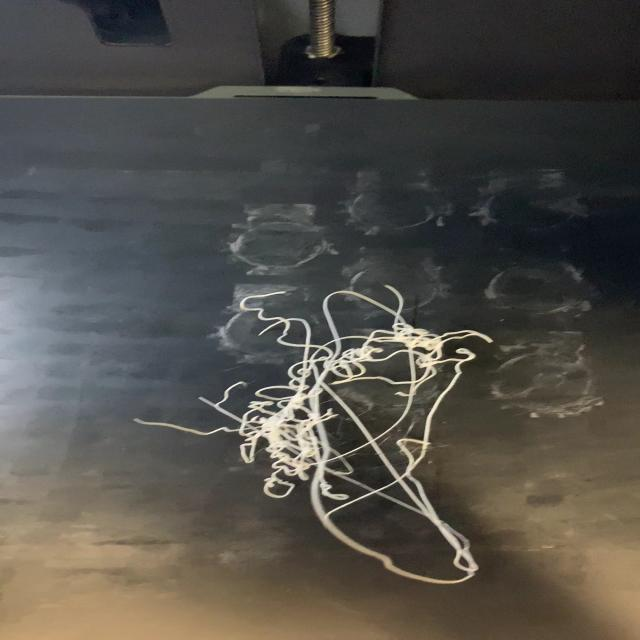spaghetti: (131, 282, 497, 586)
